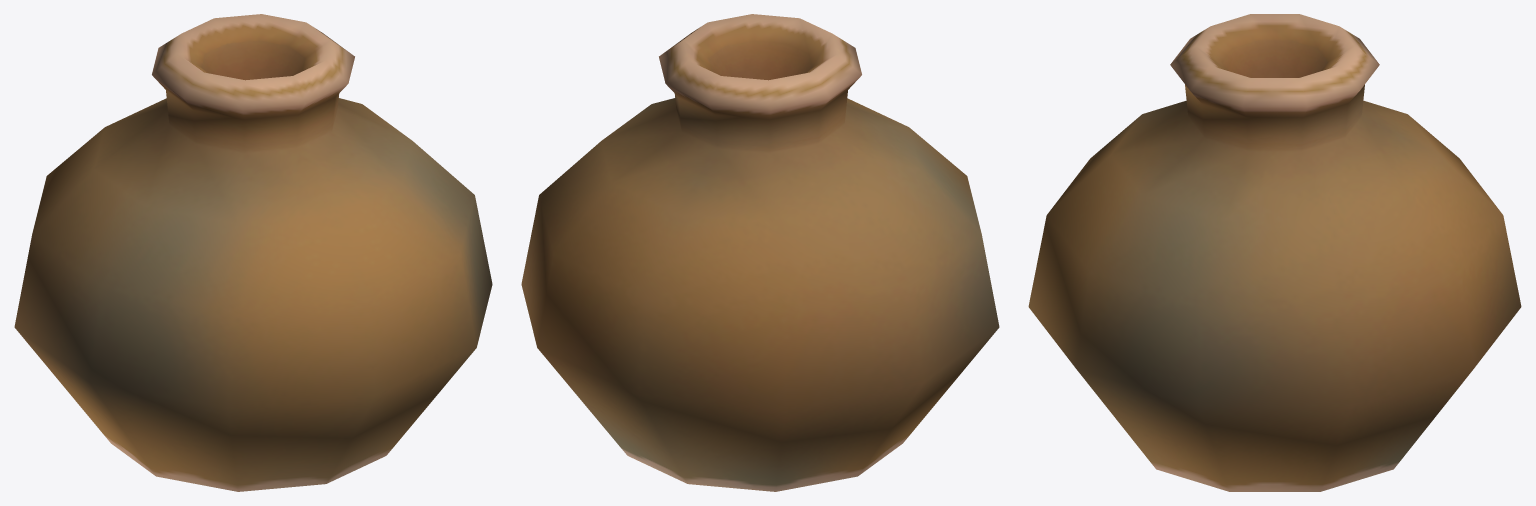
The model's file is P_Pot_E.FBX.
The picture shows the model from 3 angles, left to right: view 1: azimuth 30°, elevation 25°; view 2: azimuth 150°, elevation 25°; view 3: azimuth 270°, elevation 25°; orthographic projection.
Parts seen in each view (by area): view 1: P_Pot_E; view 2: P_Pot_E; view 3: P_Pot_E.
Part boxes in pixels (box(x1,y1,x2,y2)): P_Pot_E: box(14, 14, 492, 491); P_Pot_E: box(521, 14, 999, 491); P_Pot_E: box(1028, 14, 1521, 491).
Size of the model in its own units: 35.64 by 32.46 by 37.48.
Materials: 1 (1 with a texture image).
